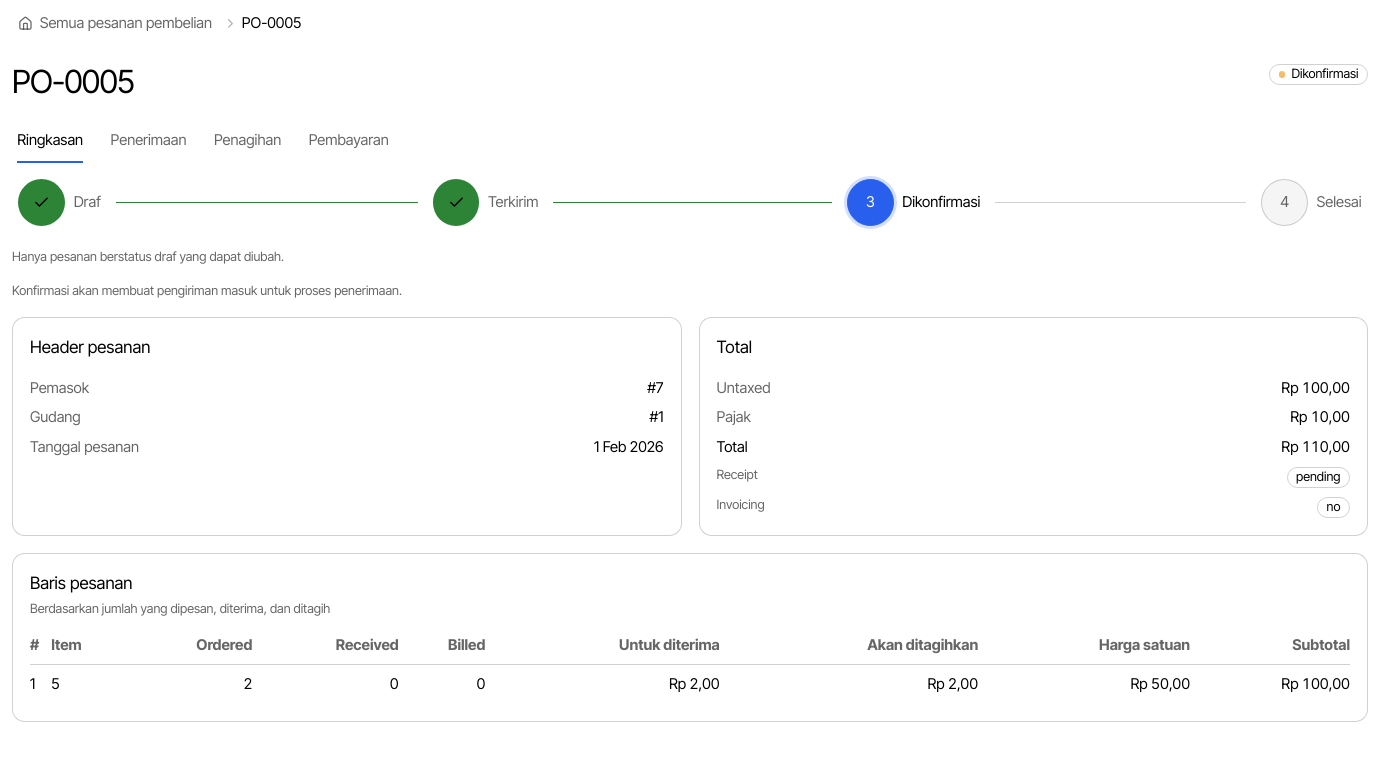
it: PurchaseOrderDetail extra › shows the linked shipment on the receipt tab
Click the tab "Penerimaan" at (148,141), box [110, 117, 187, 164]
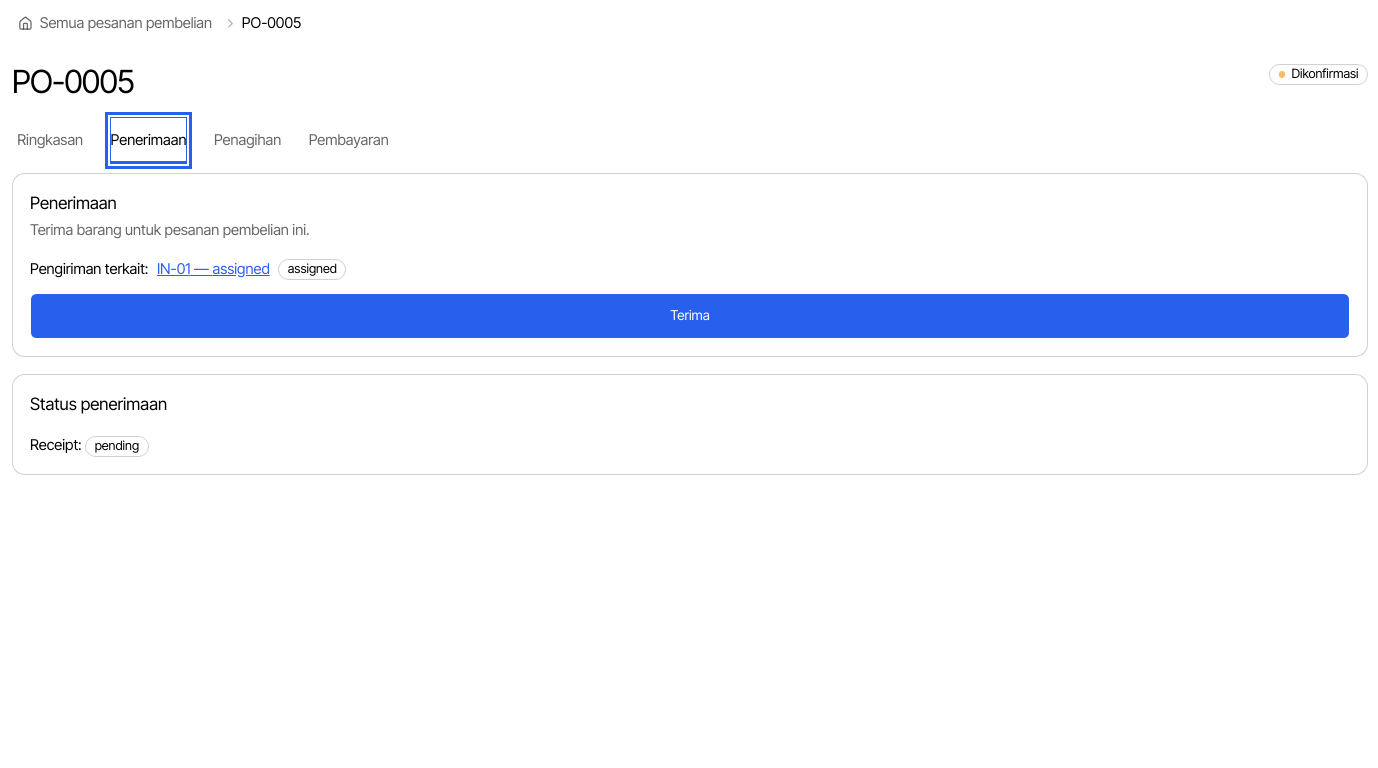
expect the link "IN-01 — assigned" is shown: met, box [157, 259, 270, 280]
